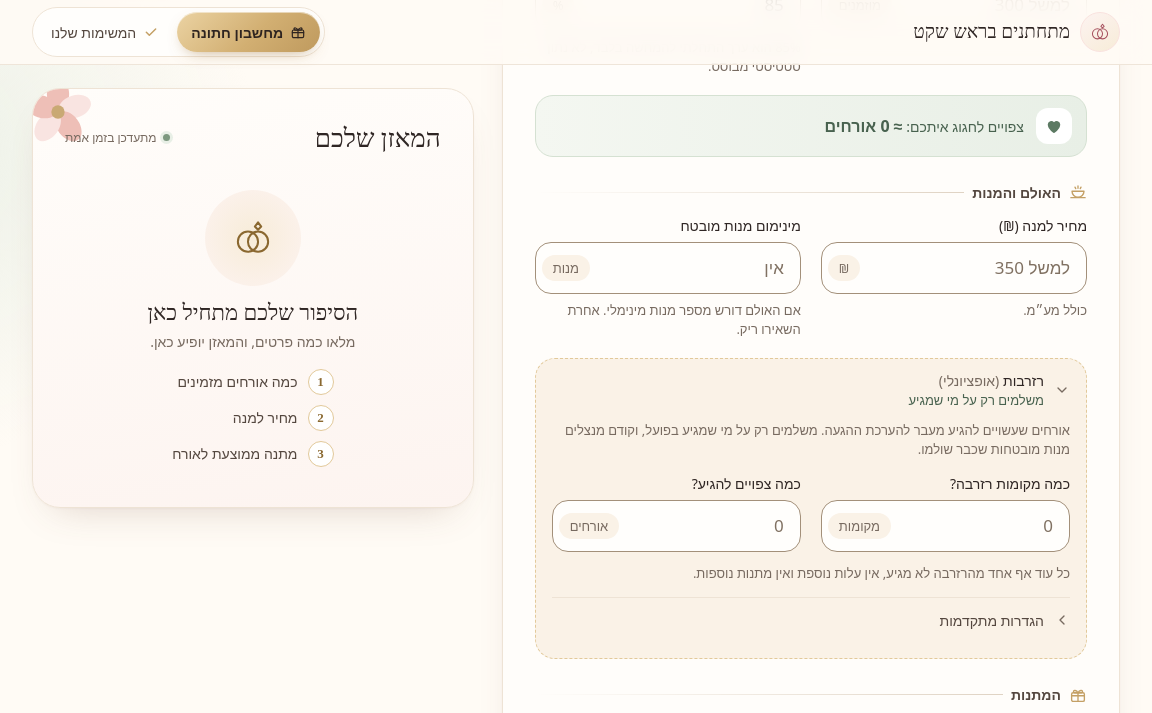
Test: Event details form › keeps reserves collapsed by default and open while a reserve field is invalid
The width and height of the screenshot is (1152, 713).
Earlier steps of the test are not shown.
Later steps or results of the test are not shown.
(page scrolled)
Type "5" into the field labelled "כמה מקומות רזרבה?" at point(980, 526), box [891,502,1069,550]
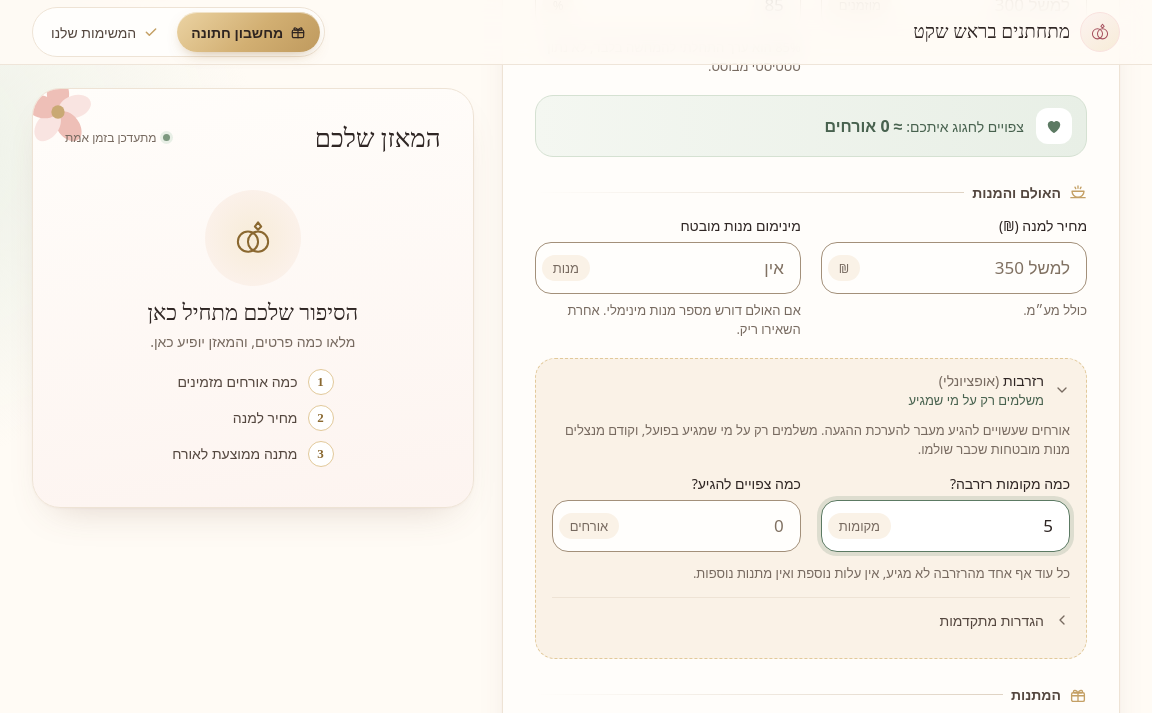
Type "8" into the field labelled "כמה צפויים להגיע?" at point(710, 526), box [619,502,800,550]
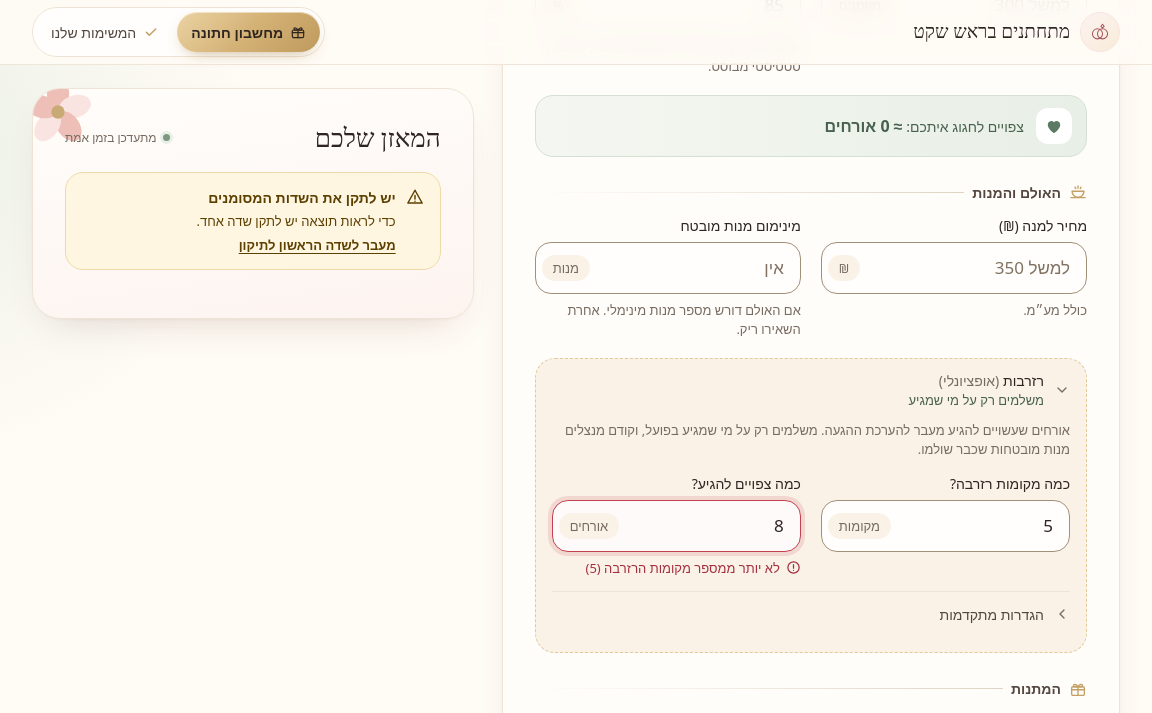
Expected: the text "לא יותר ממספר מקומות הרזרבה (5)" is shown, [586,559,780,577]
